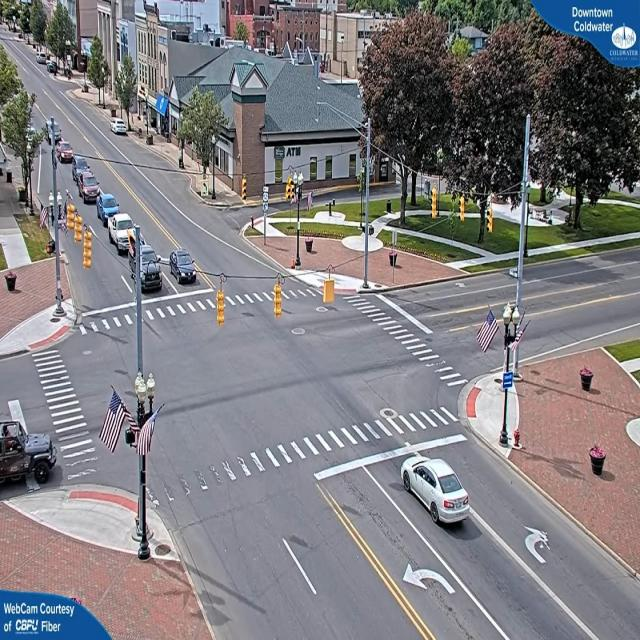car: (401, 457, 468, 529), (0, 428, 54, 487), (108, 214, 135, 254), (140, 249, 164, 293), (168, 250, 197, 284), (78, 172, 101, 204), (98, 194, 121, 220), (56, 141, 74, 165), (112, 121, 130, 138)
